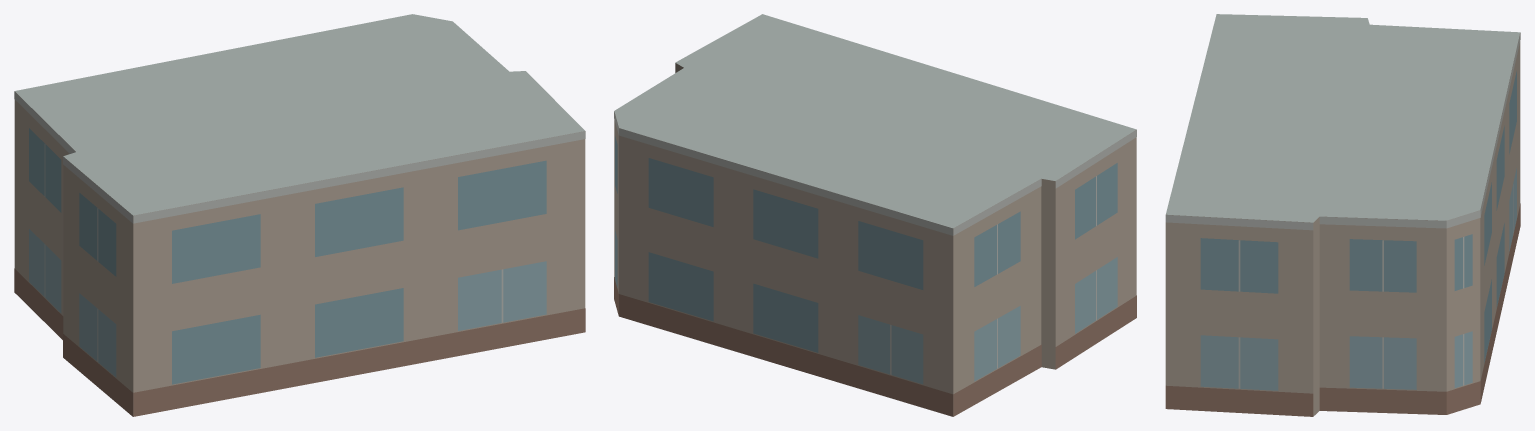
The model's file is survey-upis-32969550.glb.
3 renders of one model, left to right at view 1: azimuth 30°, elevation 25°; view 2: azimuth 150°, elevation 25°; view 3: azimuth 270°, elevation 25°, orthographic. The views are drawn at different scales.
Visible parts, largest first — view 1: survey-upis-32969550.tmp; view 2: survey-upis-32969550.tmp; view 3: survey-upis-32969550.tmp.
Boxes of the visible parts, <box> form: survey-upis-32969550.tmp: <box>14,14,585,416</box>; survey-upis-32969550.tmp: <box>614,14,1136,416</box>; survey-upis-32969550.tmp: <box>1165,14,1520,416</box>.
Bounding box in the file's own units: 14.06 × 6.1 × 10.1.
